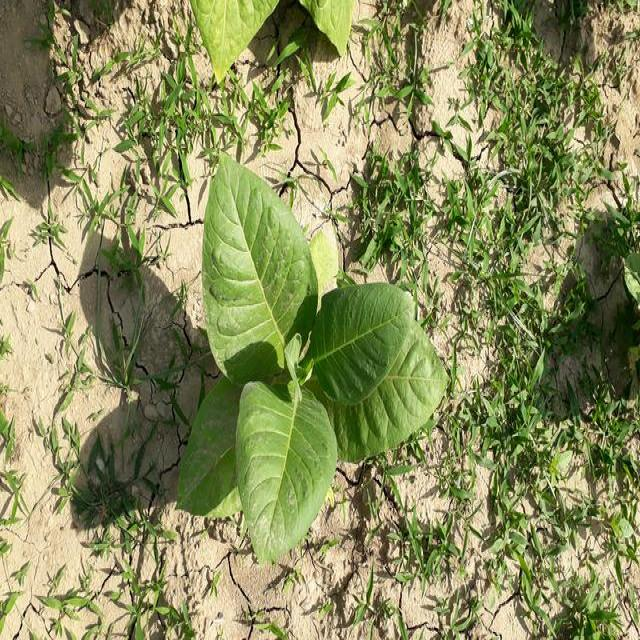crop: (178, 159, 438, 552), (190, 4, 359, 64)
